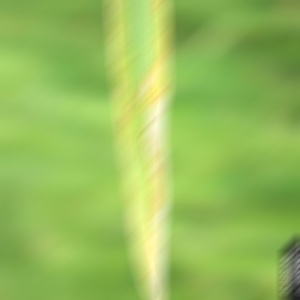Leaf_Blast: (109, 1, 174, 300)
